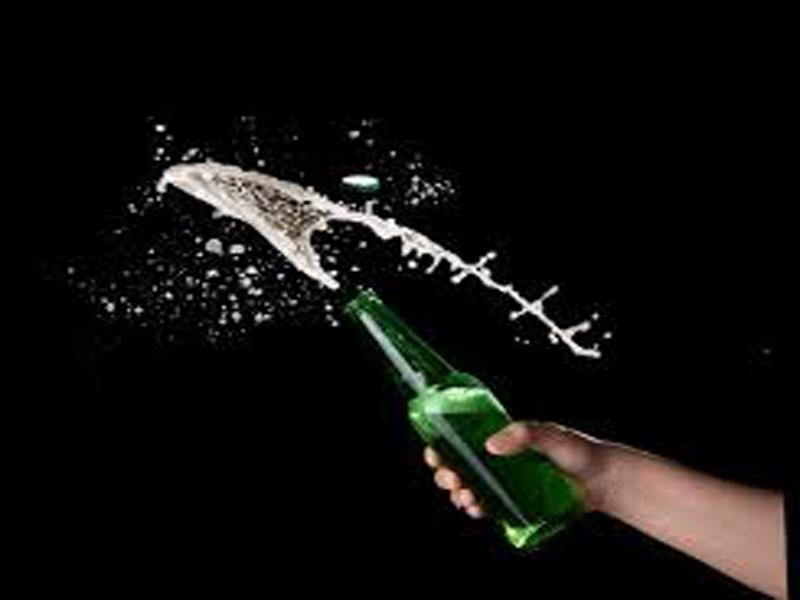Beer: (345, 291, 583, 553)
